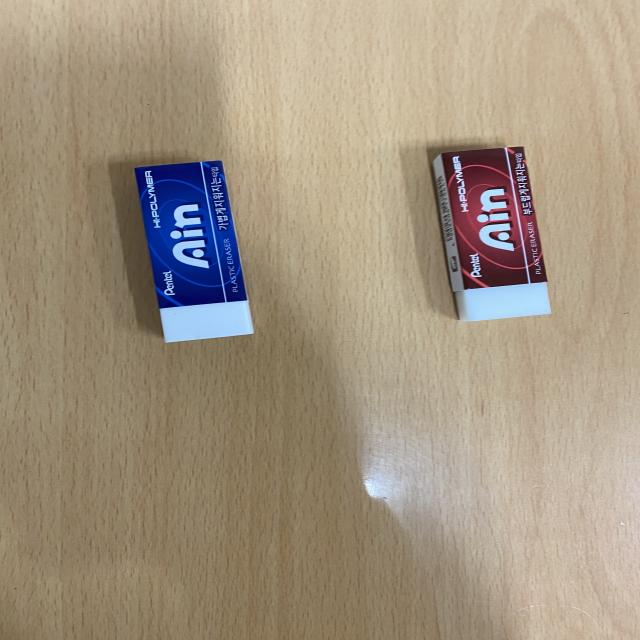blue: (125, 154, 270, 350)
red: (417, 141, 563, 328)
